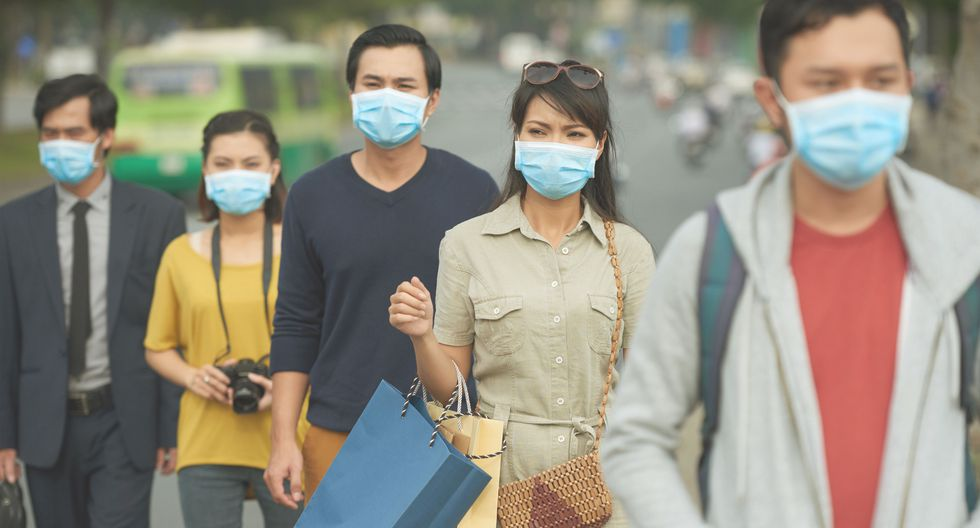with_mask: (766, 3, 940, 207), (507, 63, 614, 200), (346, 42, 447, 157), (188, 122, 293, 226), (29, 83, 124, 193)
